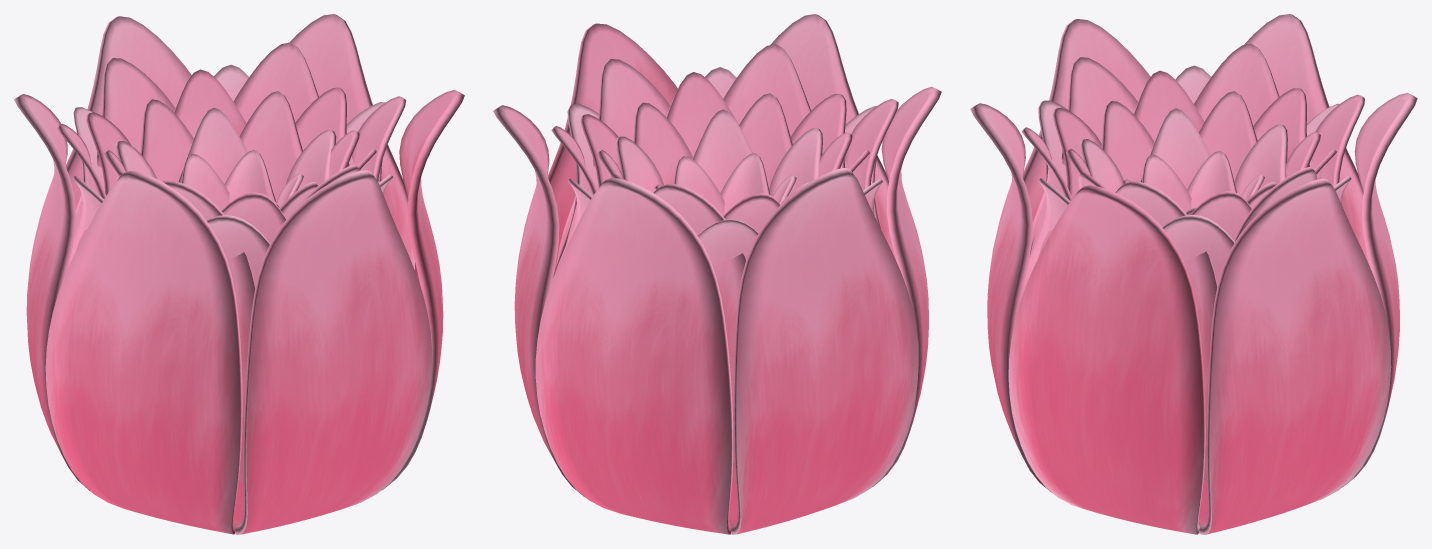
File: intro_02.glb
3 renders of one model, left to right at view 1: azimuth 30°, elevation 25°; view 2: azimuth 150°, elevation 25°; view 3: azimuth 270°, elevation 25°, orthographic.
Parts seen in each view (by area): view 1: Sphere.016, Sphere.001, Sphere.015, Sphere.017, Sphere.018, Sphere.014, Sphere.027, Sphere.035, Sphere.024, Sphere.036, Sphere.026, Sphere.039 (+16 smaller); view 2: Sphere.014, Sphere.015, Sphere.018, Sphere.016, Sphere.017, Sphere.001, Sphere.003, Sphere.024, Sphere.028, Sphere.033, Sphere.043, Sphere.037 (+15 smaller); view 3: Sphere.017, Sphere.018, Sphere.001, Sphere.014, Sphere.015, Sphere.016, Sphere.028, Sphere.025, Sphere.026, Sphere.006, Sphere.038, Sphere.019 (+16 smaller).
Boxes of the visible parts, bbox=[...] form: Sphere.016: bbox=[45, 171, 242, 534]; Sphere.001: bbox=[233, 170, 431, 534]; Sphere.015: bbox=[14, 94, 89, 490]; Sphere.017: bbox=[381, 89, 464, 490]; Sphere.018: bbox=[290, 14, 414, 269]; Sphere.014: bbox=[65, 16, 191, 209]; Sphere.027: bbox=[233, 42, 318, 123]; Sphere.035: bbox=[239, 91, 302, 201]; Sphere.024: bbox=[97, 58, 175, 167]; Sphere.036: bbox=[140, 99, 193, 181]; Sphere.026: bbox=[164, 181, 255, 483]; Sphere.039: bbox=[178, 108, 247, 183]; Sphere.014: bbox=[535, 178, 733, 534]; Sphere.015: bbox=[729, 168, 918, 534]; Sphere.018: bbox=[493, 105, 584, 496]; Sphere.016: bbox=[872, 86, 941, 486]; Sphere.017: bbox=[547, 23, 677, 271]; Sphere.001: bbox=[770, 14, 895, 259]; Sphere.003: bbox=[723, 44, 811, 136]; Sphere.024: bbox=[653, 184, 745, 476]; Sphere.028: bbox=[593, 59, 670, 166]; Sphere.033: bbox=[666, 72, 738, 156]; Sphere.043: bbox=[692, 109, 752, 192]; Sphere.037: bbox=[739, 93, 792, 188]; Sphere.017: bbox=[1008, 185, 1205, 534]; Sphere.018: bbox=[1198, 178, 1391, 534]; Sphere.001: bbox=[970, 103, 1051, 492]; Sphere.014: bbox=[1343, 93, 1417, 486]; Sphere.015: bbox=[1244, 14, 1370, 268]; Sphere.016: bbox=[1022, 19, 1150, 222]; Sphere.028: bbox=[1115, 181, 1217, 483]; Sphere.025: bbox=[1194, 43, 1279, 125]; Sphere.026: bbox=[1062, 57, 1137, 165]; Sphere.006: bbox=[1199, 91, 1257, 181]; Sphere.038: bbox=[1101, 101, 1154, 181]; Sphere.019: bbox=[1162, 214, 1234, 517].
Bounding box in the file's own units: 2.88 × 3 × 2.9.
9 materials, 2 textured.
